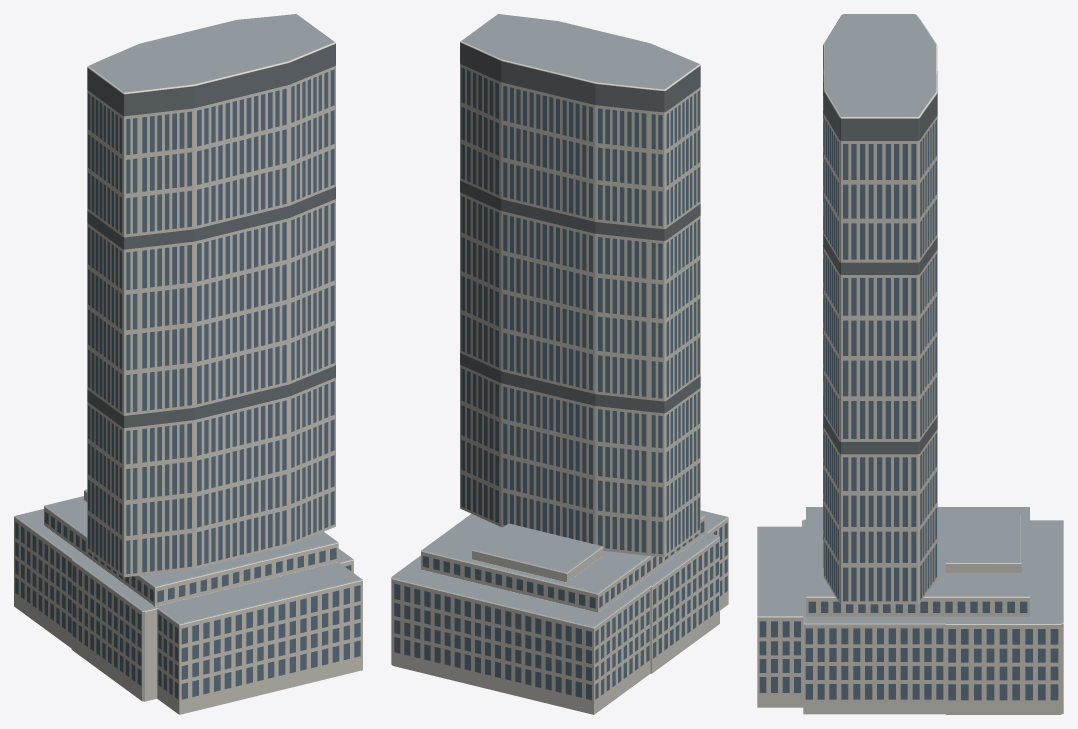
Rendered from nyc-metlife-building.glb.
3 views of the same model, side by side, from view 1: azimuth 30°, elevation 25°; view 2: azimuth 150°, elevation 25°; view 3: azimuth 270°, elevation 25° (orthographic). The views are drawn at different scales.
Visible parts, largest first — view 1: MetLife Building; view 2: MetLife Building; view 3: MetLife Building.
Boxes of the visible parts, x1,y1,x2,y2 form: MetLife Building: (14, 14, 362, 714); MetLife Building: (391, 14, 728, 714); MetLife Building: (757, 14, 1063, 714).
Size of the model in its own units: 91.1 by 243 by 113.
